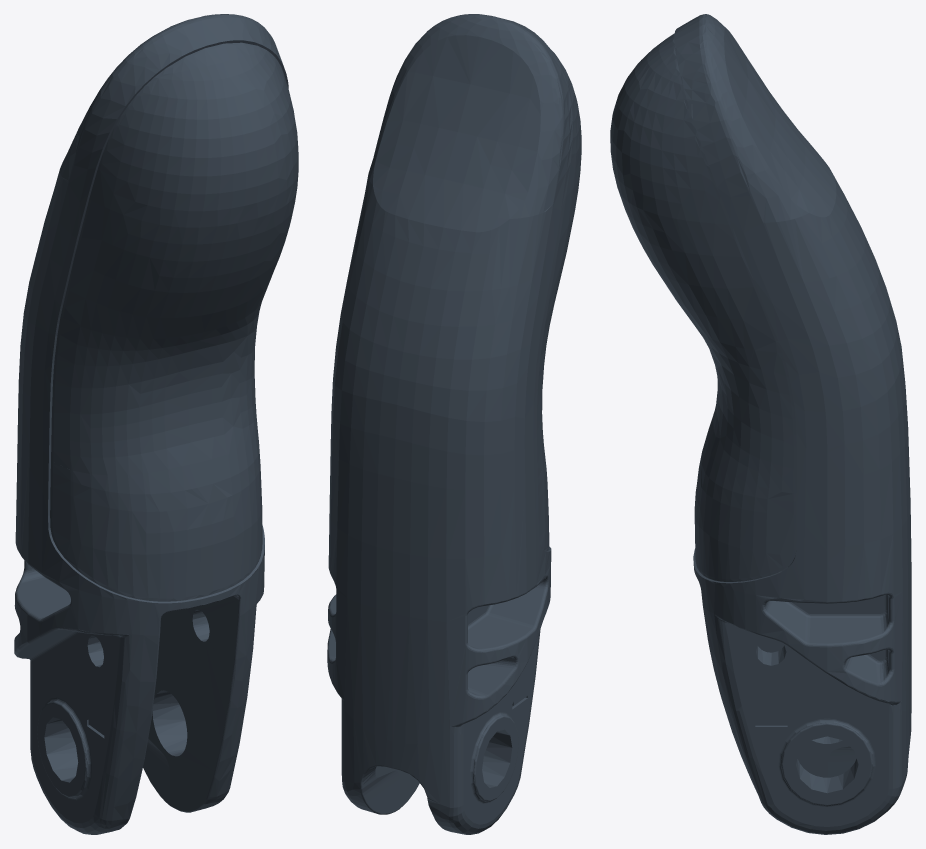
The model's file is if_dip_link.glb.
3 renders of one model, left to right at view 1: azimuth 30°, elevation 25°; view 2: azimuth 150°, elevation 25°; view 3: azimuth 270°, elevation 25°, orthographic. The views are drawn at different scales.
Parts seen in each view (by area): view 1: if_dip; view 2: if_dip; view 3: if_dip.
Part boxes in pixels (x1,y1,x2,y2): if_dip: [14, 14, 298, 834]; if_dip: [327, 14, 581, 834]; if_dip: [610, 14, 911, 834].
Bounding box in the file's own units: 0.0148 × 0.0566 × 0.0197.
